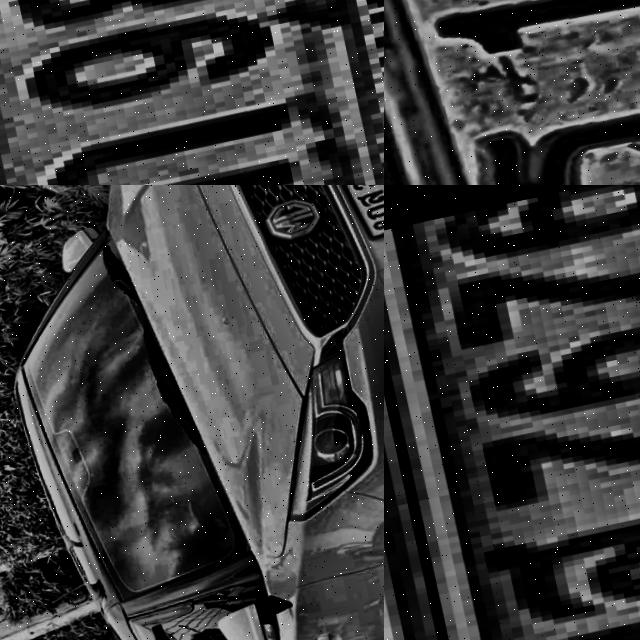license-plate: (384, 185, 640, 640), (0, 0, 384, 185), (384, 0, 640, 185), (321, 185, 384, 250)
